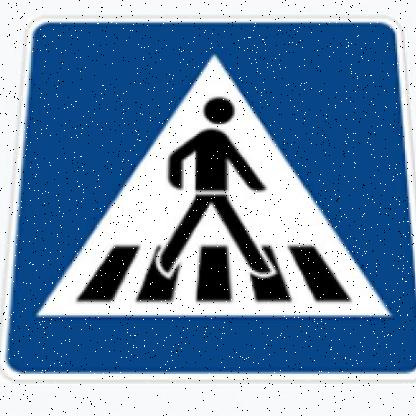Pedestrian Crossing: (2, 5, 416, 399)
